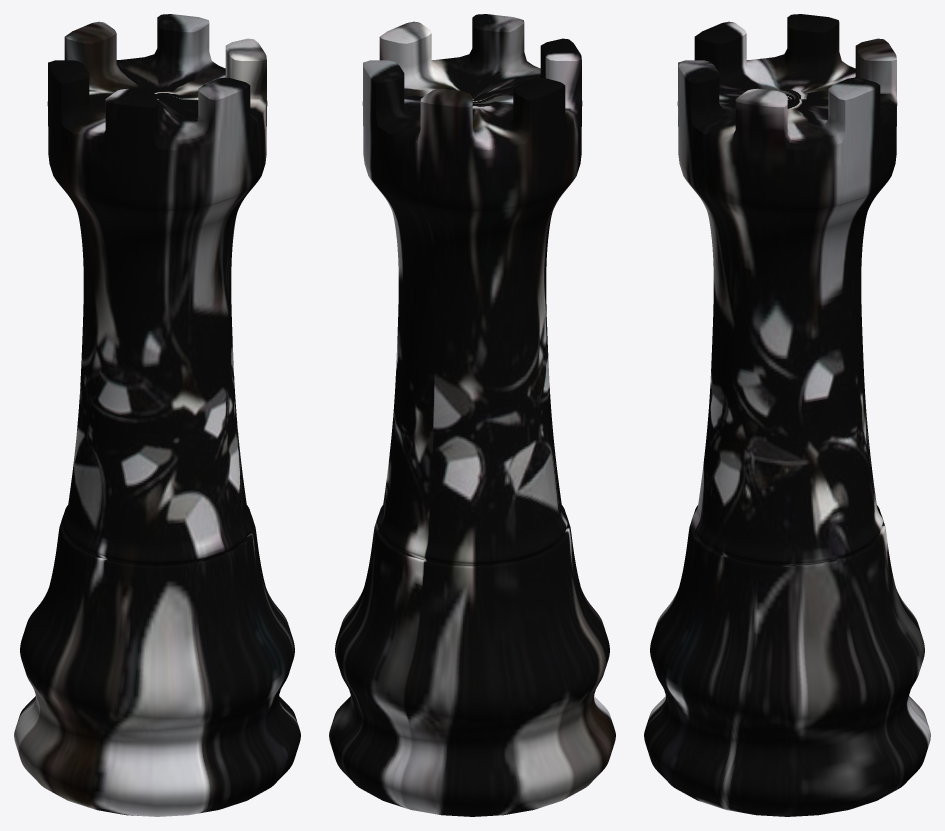
Rendered from Rook.obj.
3 renders of one model, left to right at view 1: azimuth 30°, elevation 25°; view 2: azimuth 150°, elevation 25°; view 3: azimuth 270°, elevation 25°, orthographic.
Visible parts, largest first — view 1: mesh01; view 2: mesh01; view 3: mesh01.
Boxes of the visible parts, left/top/right/bottom form: mesh01: left=14, top=14, right=300, bottom=816; mesh01: left=329, top=14, right=615, bottom=816; mesh01: left=644, top=14, right=930, bottom=816.
Bounding box in the file's own units: 3.83 × 10.57 × 3.83.
